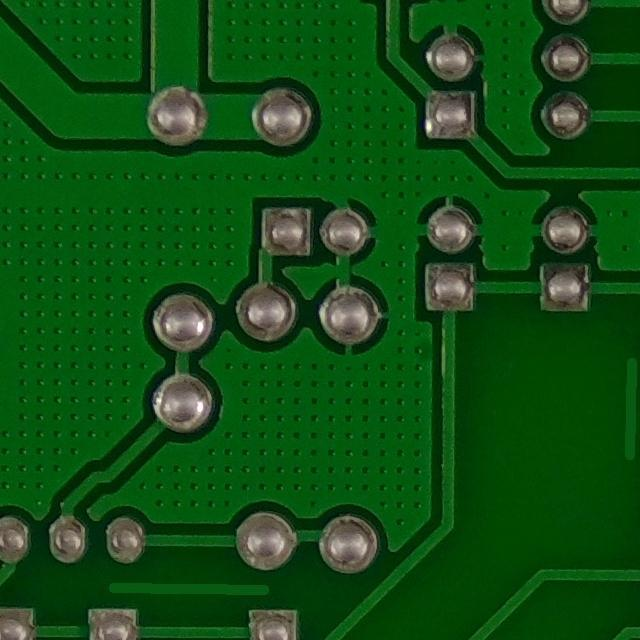spurious_copper: (101, 553, 286, 624), (600, 346, 640, 472)
